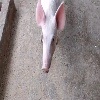heo: (31, 1, 65, 75)
